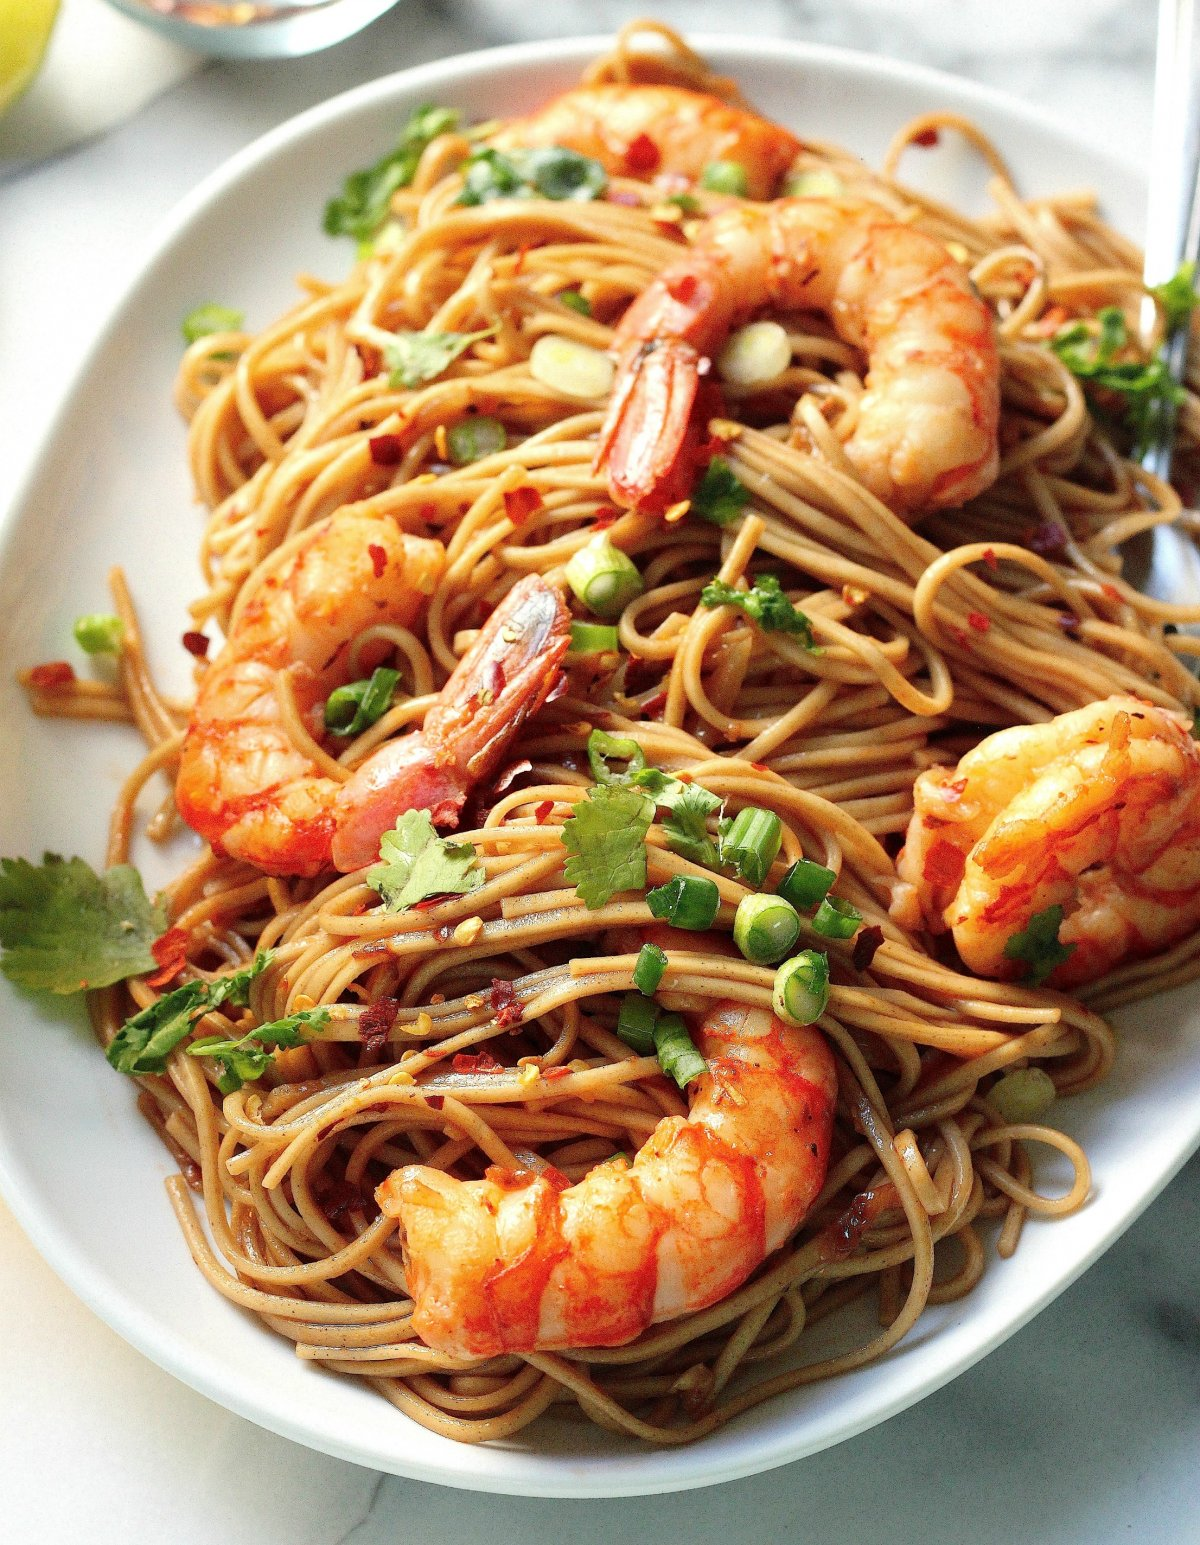Soba: (214, 76, 1166, 1430)
